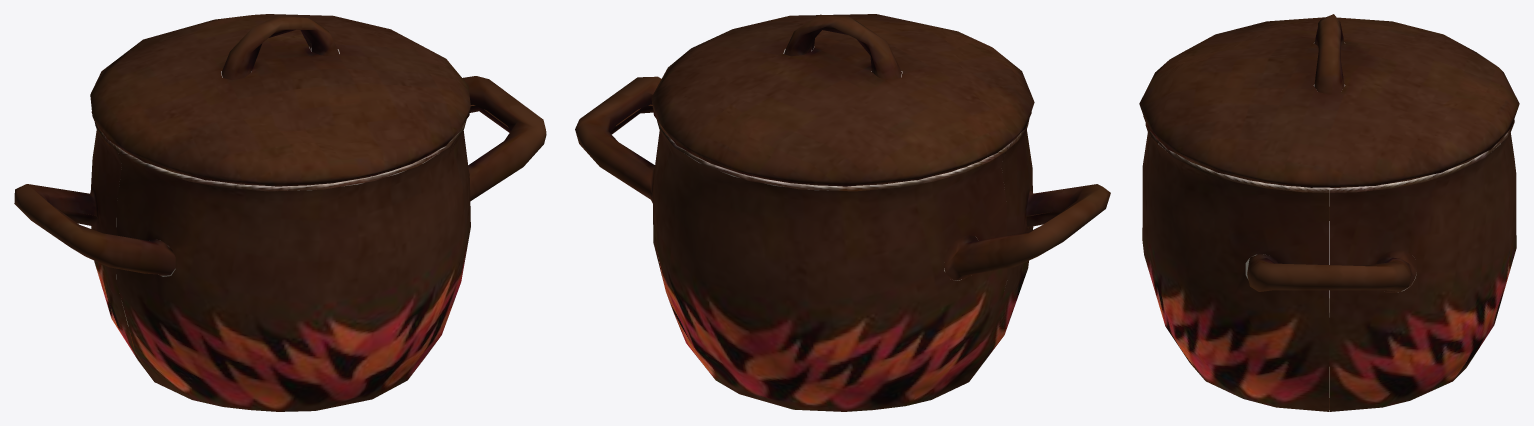
The model's file is obj_pot.glb.
The picture shows the model from 3 angles, left to right: view 1: azimuth 30°, elevation 25°; view 2: azimuth 150°, elevation 25°; view 3: azimuth 270°, elevation 25°; orthographic projection.
Parts seen in each view (by area): view 1: obj_pot; view 2: obj_pot; view 3: obj_pot.
Boxes of the visible parts, bbox=[...] form: obj_pot: bbox=[14, 14, 546, 411]; obj_pot: bbox=[575, 14, 1110, 411]; obj_pot: bbox=[1139, 14, 1519, 411].
Bounding box in the file's own units: 0.2631 × 0.1785 × 0.1823.
1 material, 1 textured.
